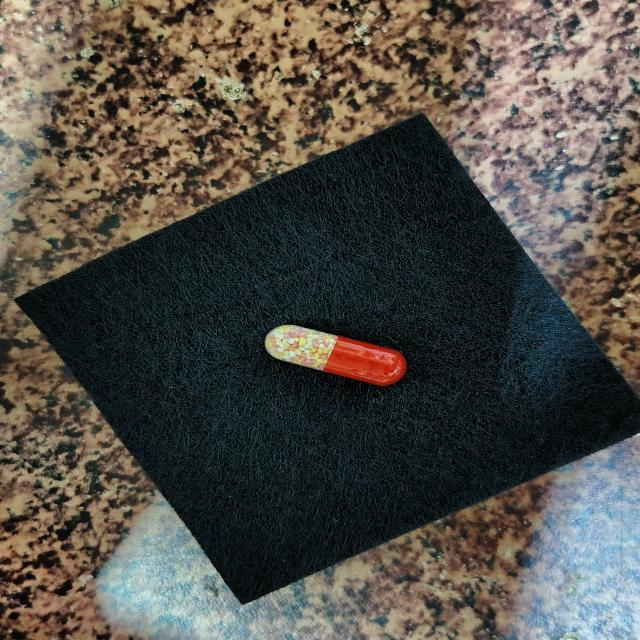Intact Capsule: (264, 325, 406, 385)
